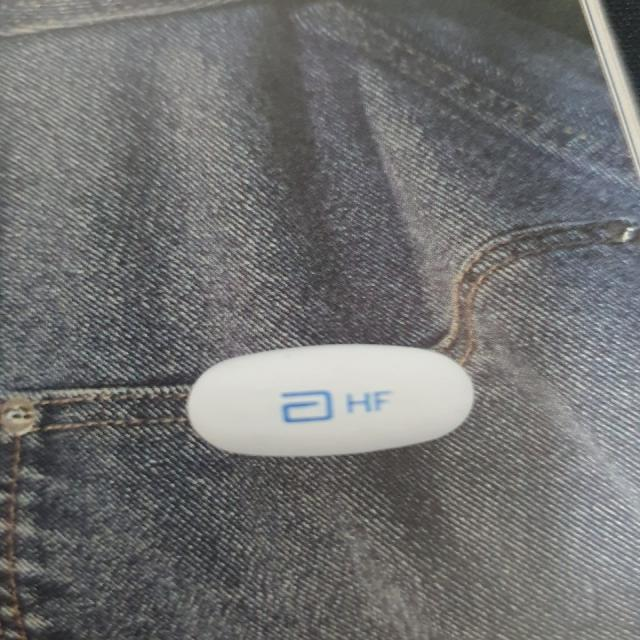pill: (165, 330, 473, 457)
